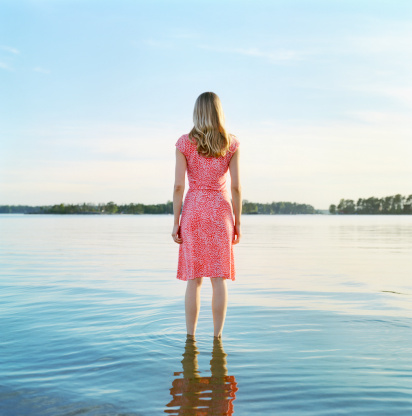em pe: (157, 75, 239, 366)
